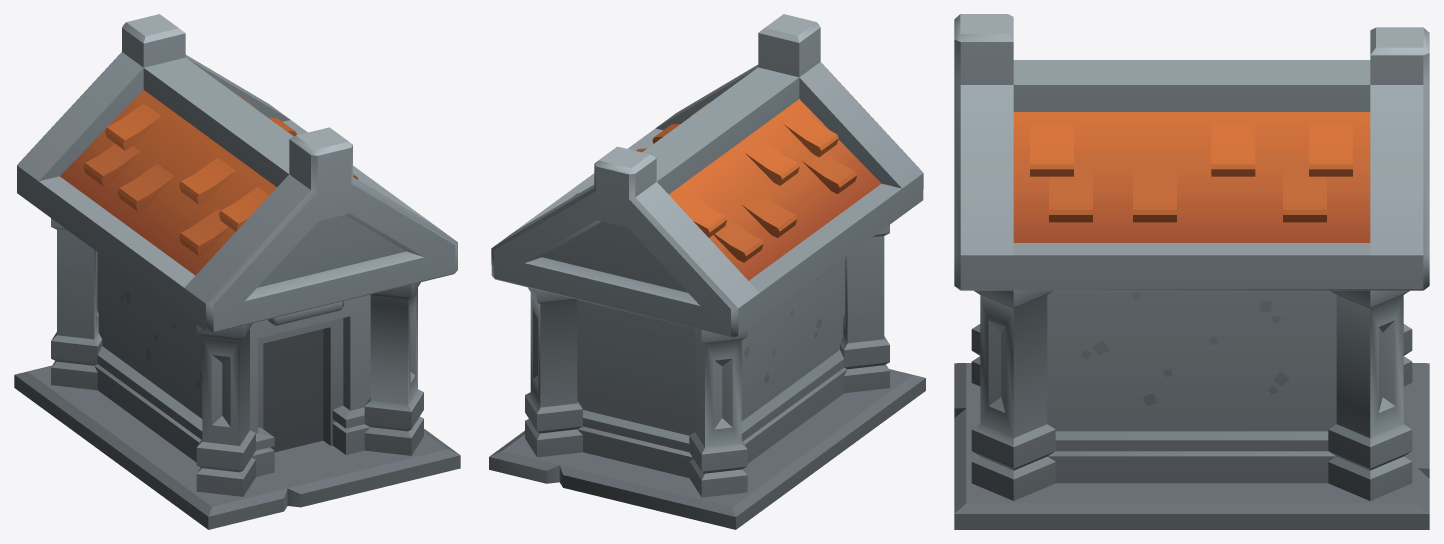
Rendered from d_kaykit_crypte.glb.
3 views of the same model, side by side, from view 1: azimuth 30°, elevation 25°; view 2: azimuth 150°, elevation 25°; view 3: azimuth 270°, elevation 25° (orthographic). The views are drawn at different scales.
Visible parts, largest first — view 1: d_kaykit_crypte; view 2: d_kaykit_crypte; view 3: d_kaykit_crypte.
Part boxes in pixels (<box>): d_kaykit_crypte: <box>14,14,460,529</box>; d_kaykit_crypte: <box>489,14,925,529</box>; d_kaykit_crypte: <box>954,14,1429,529</box>.
Size of the model in its own units: 6 by 8 by 8.
Materials: 1 (1 with a texture image).
